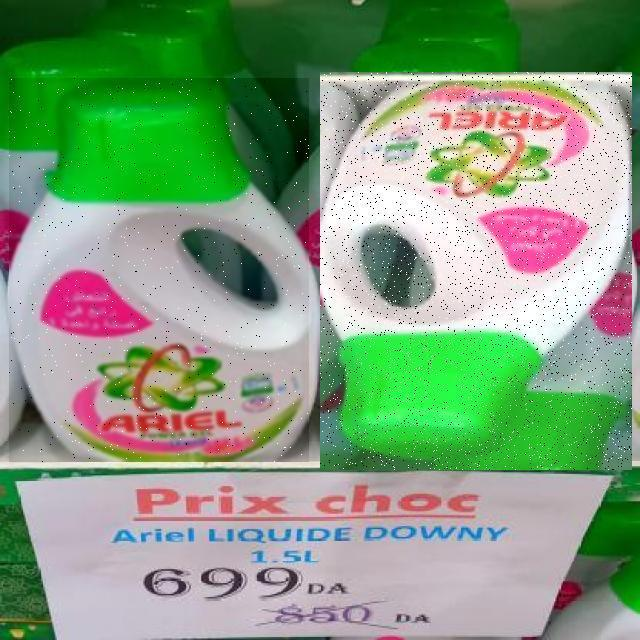Detergent: (320, 72, 632, 470), (9, 78, 309, 462)
